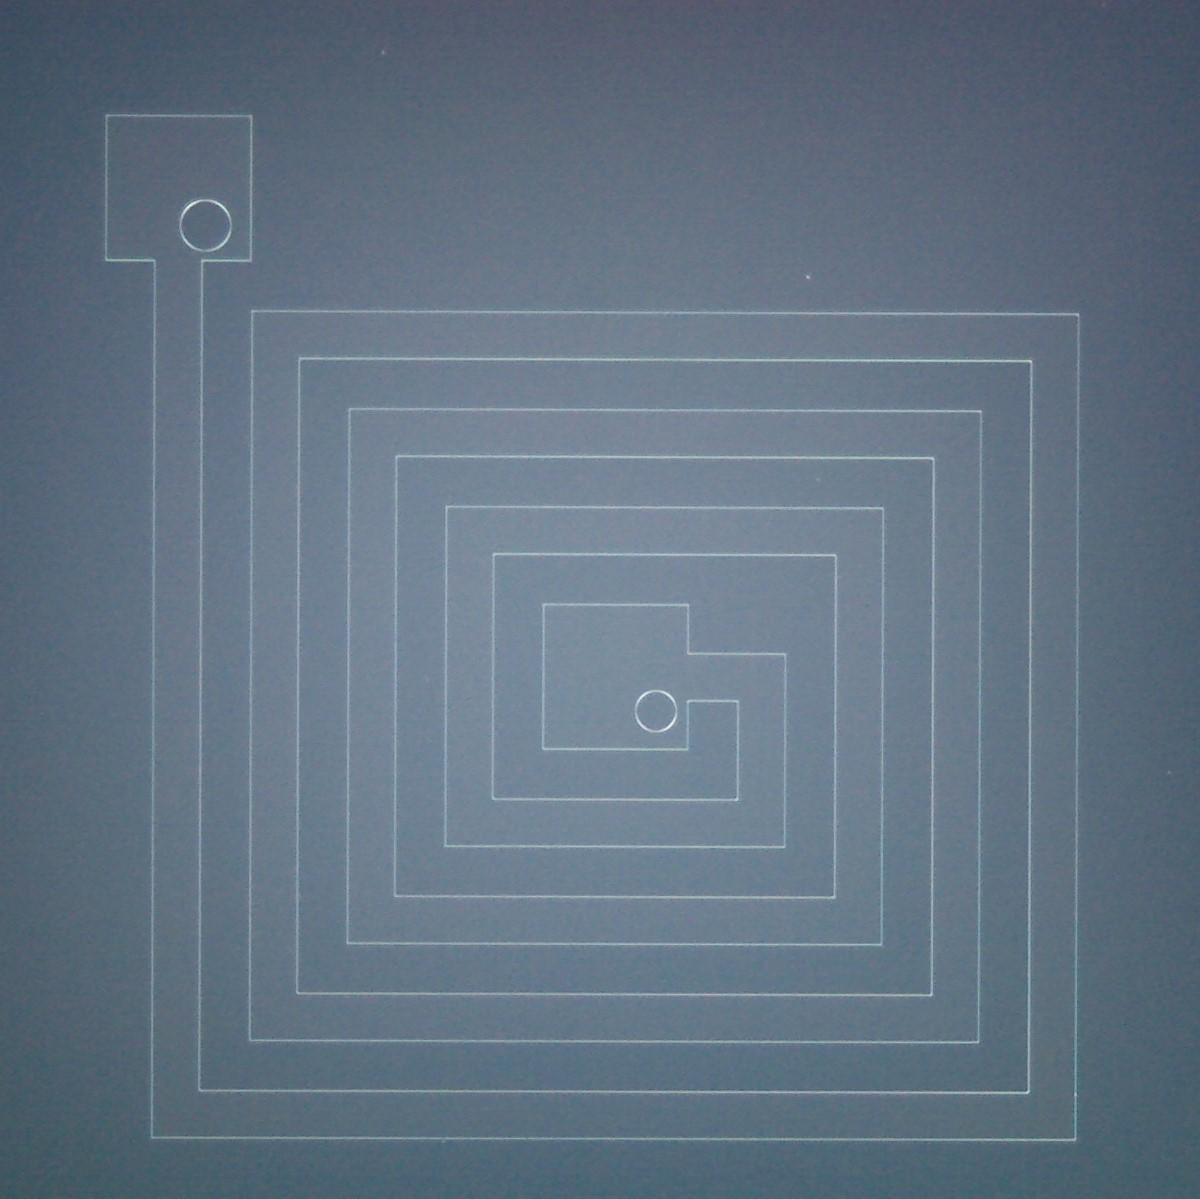circle: (179, 199, 233, 253), (633, 688, 677, 733)
s_point: (803, 272, 815, 283), (1165, 769, 1173, 776), (379, 49, 388, 55)
